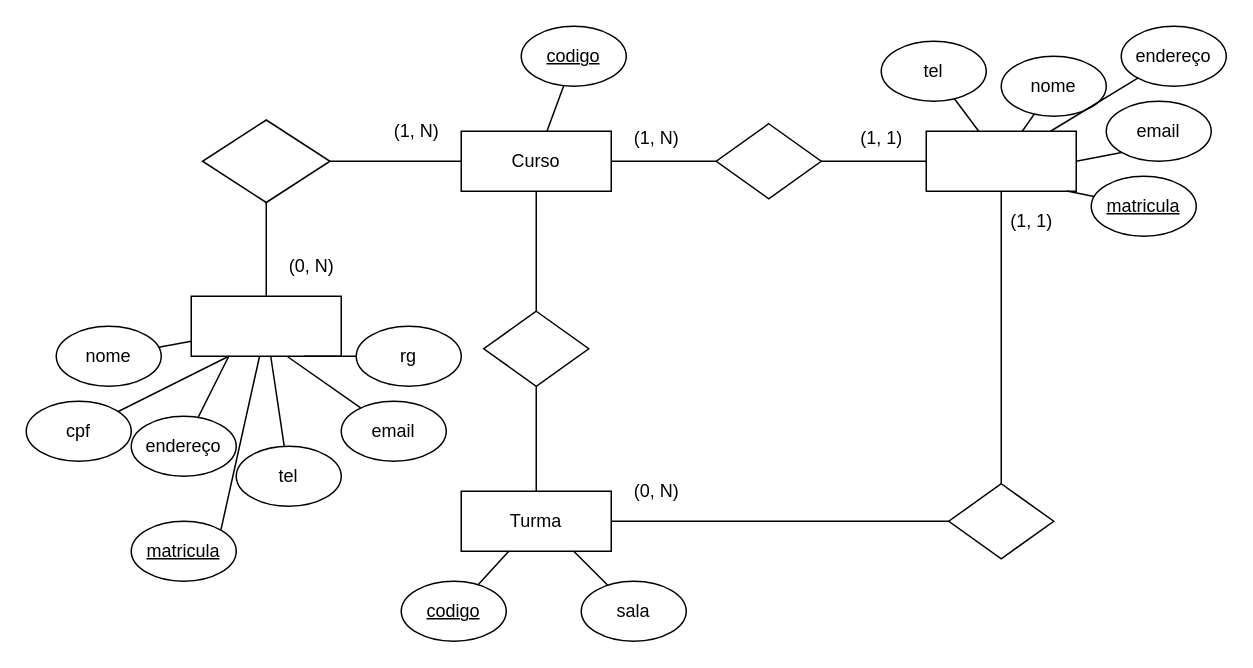
Some shapes in this 1253 by 668 pixel diagram are drawn without their labels. The centre of each missing label's shape, as x and y in pixels:
"Aluno" goes at point (265, 325).
"leciona" goes at point (1000, 520).
"matriculado" goes at point (265, 160).
"ministra" goes at point (768, 160).
"possui" goes at point (535, 348).
"Professor" goes at point (1000, 160).
